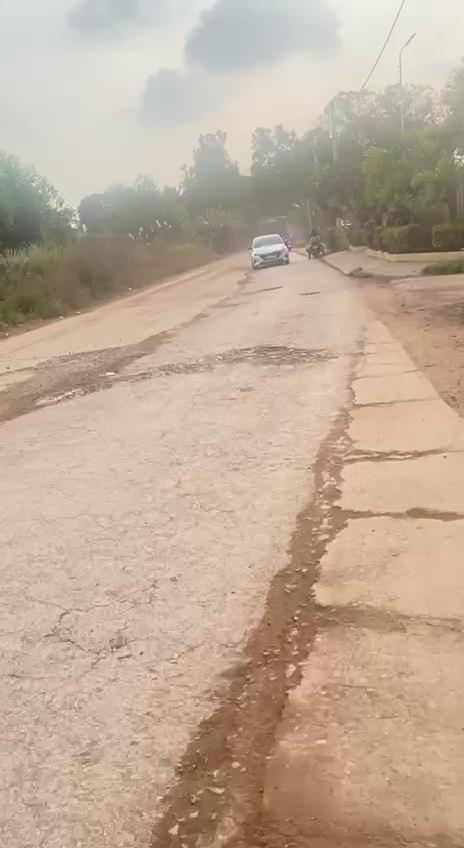pothole: (159, 605, 321, 848)
